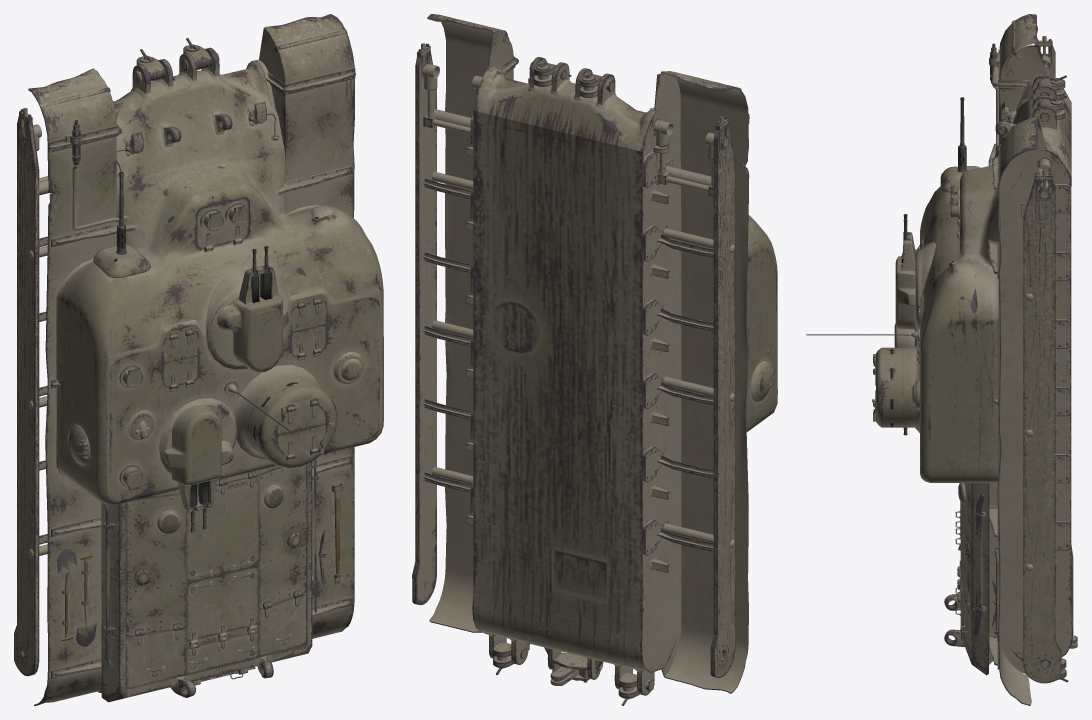
The model's file is Hull.glb.
The picture shows the model from 3 angles, left to right: view 1: azimuth 30°, elevation 25°; view 2: azimuth 150°, elevation 25°; view 3: azimuth 270°, elevation 25°; orthographic projection. The views are drawn at different scales.
Visible parts, largest first — view 1: set_0_group_0; view 2: set_0_group_0; view 3: set_0_group_0.
Boxes of the visible parts, x1,y1,x2,y2 form: set_0_group_0: (14, 14, 383, 705); set_0_group_0: (412, 14, 777, 705); set_0_group_0: (806, 14, 1077, 705).
Bounding box in the file's own units: 3.32 × 6.5 × 2.78.
Materials: 1 (1 with a texture image).
